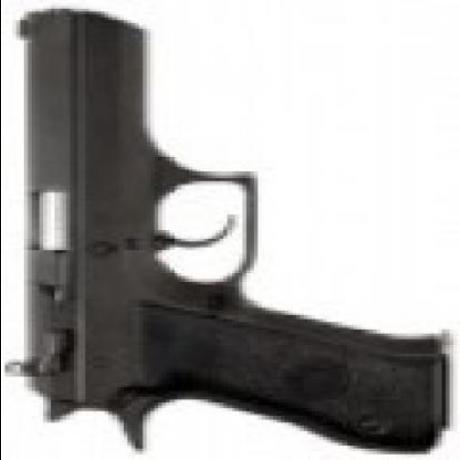weapon: (8, 6, 442, 454)
